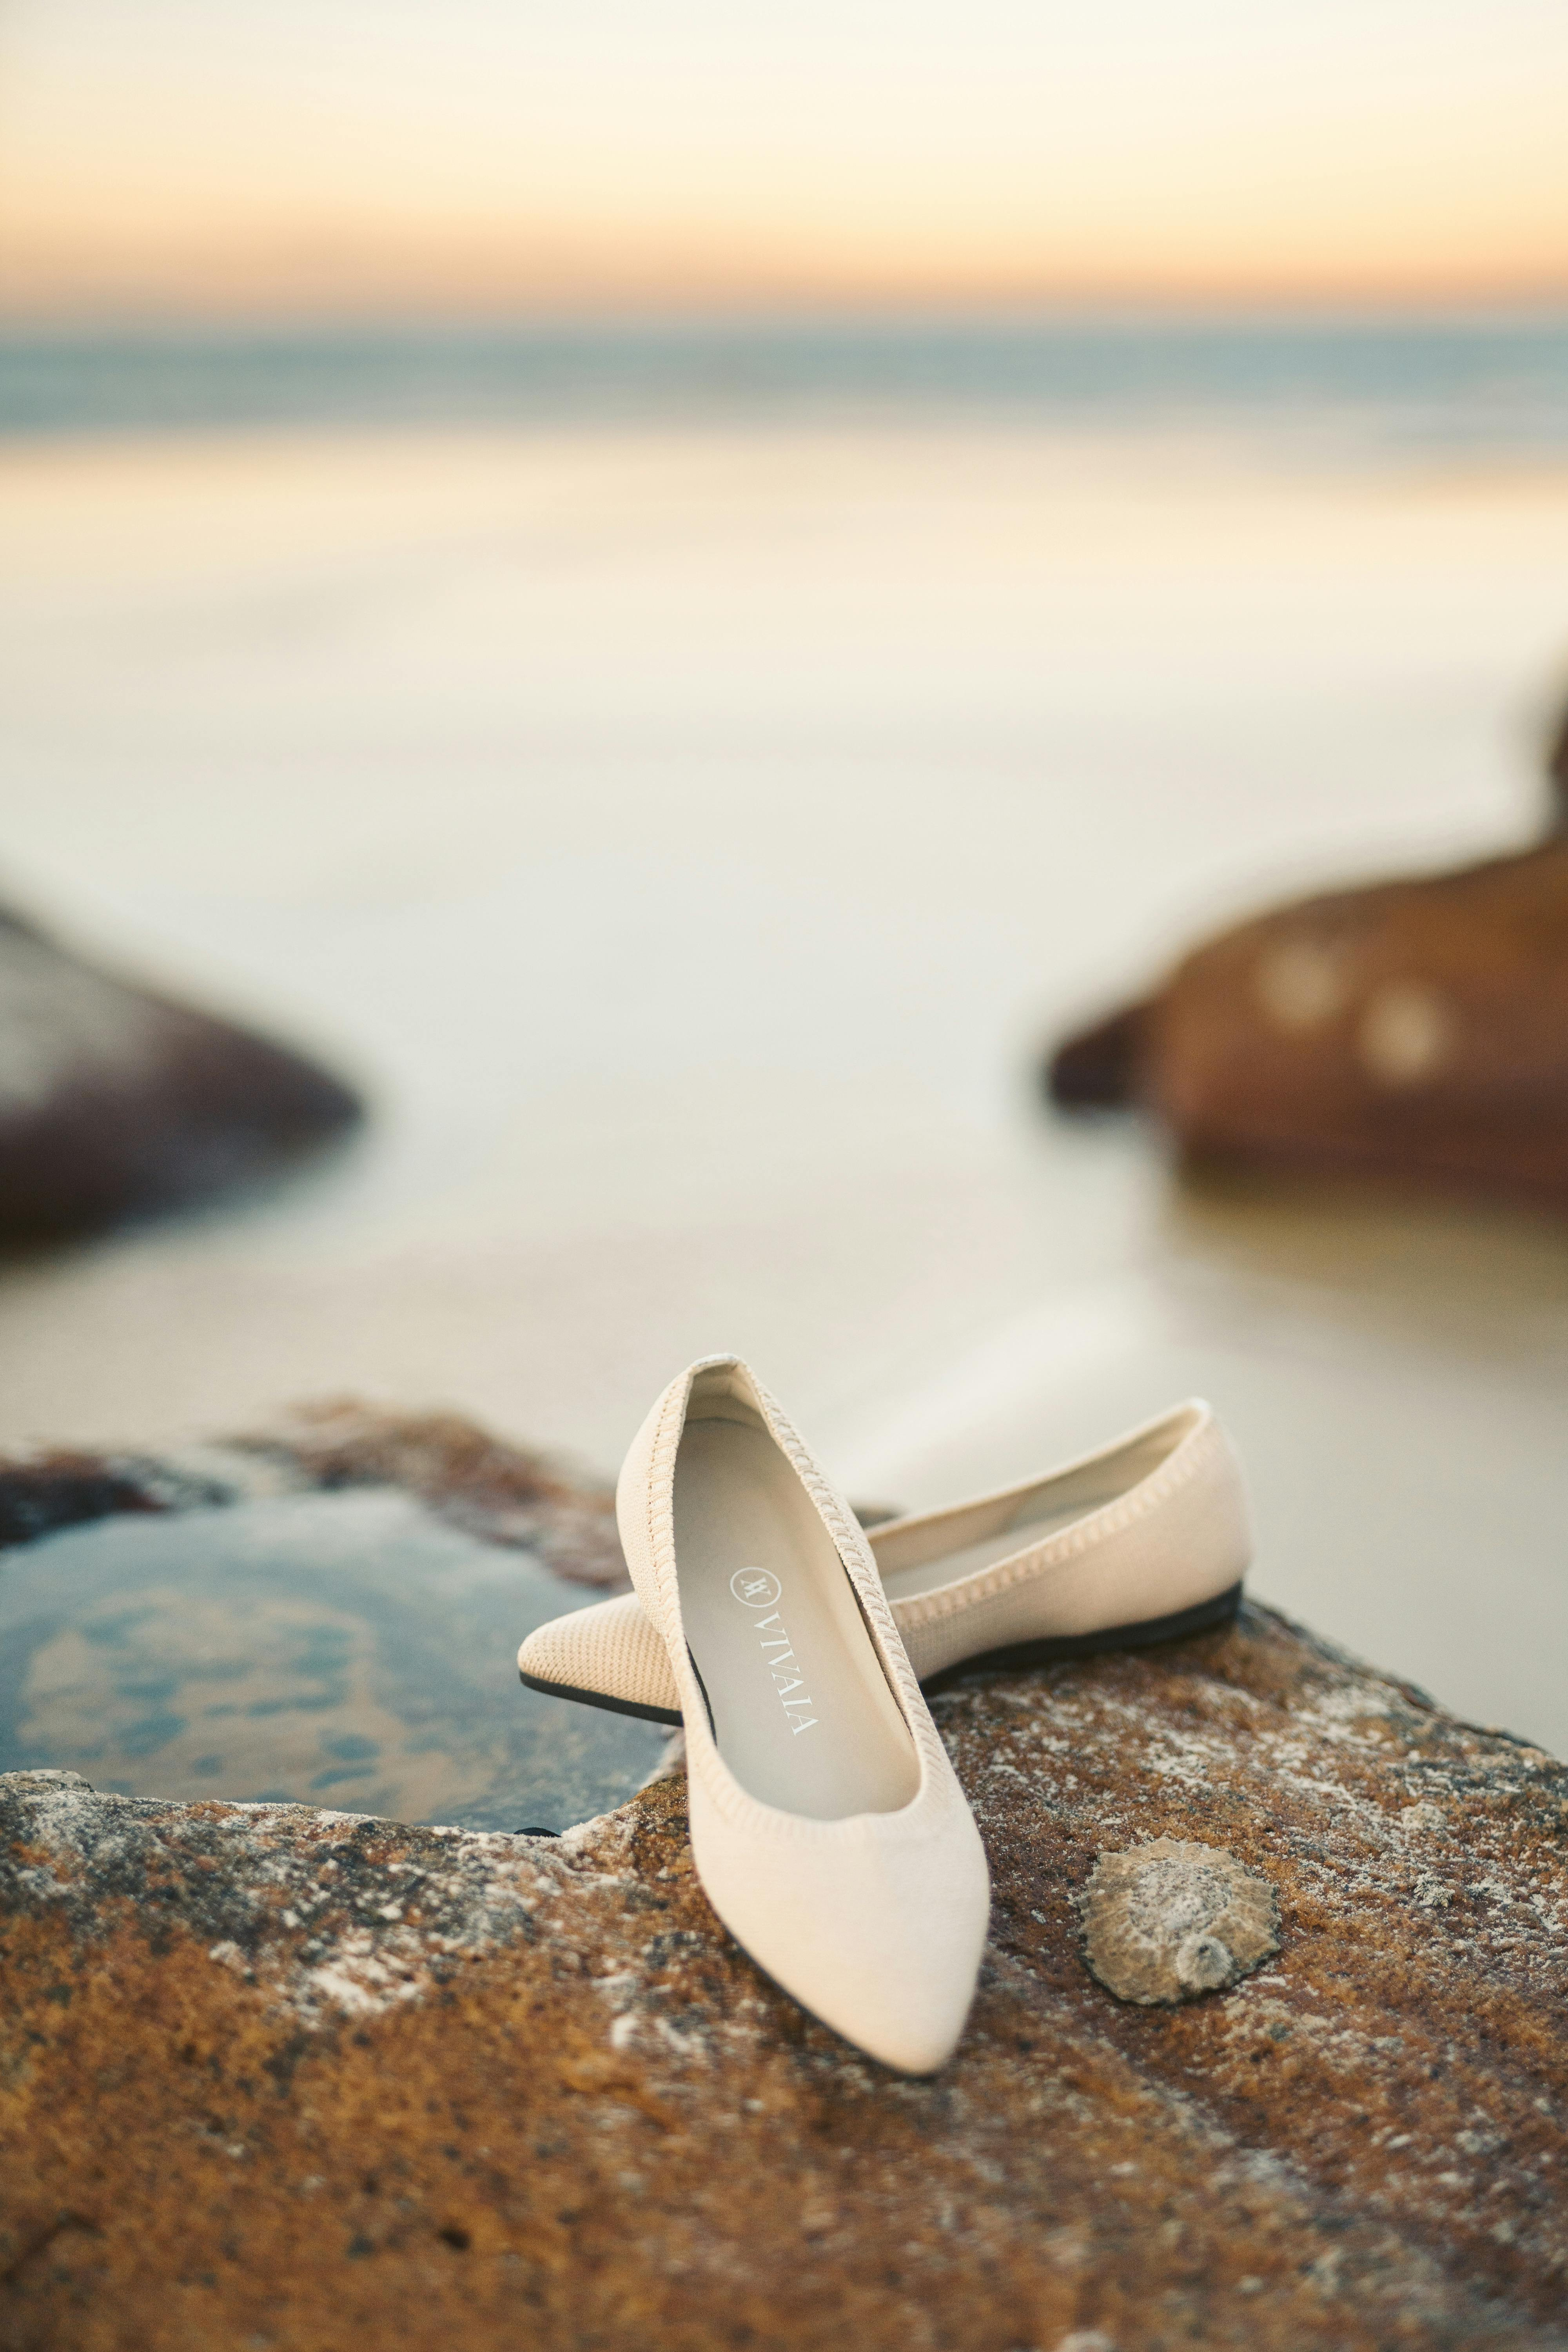Footwear: (418, 1342, 1312, 2077), (593, 1332, 1050, 2116)
